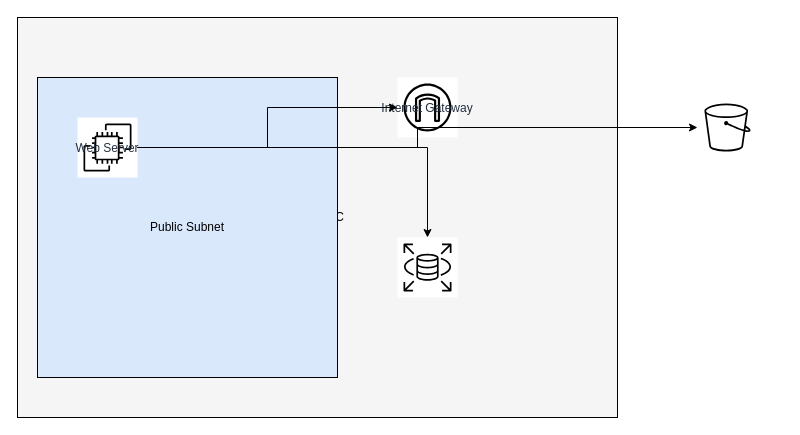
Some shapes in this 800 by 435 pixel diagram are drawn without their labels. The shapes that lost their labels are listed below. From the top down, each one's centre as x and y in pixels, then its label:
At [727,127]: "Static Assets Bucket".
At [427,267]: "App Database".
